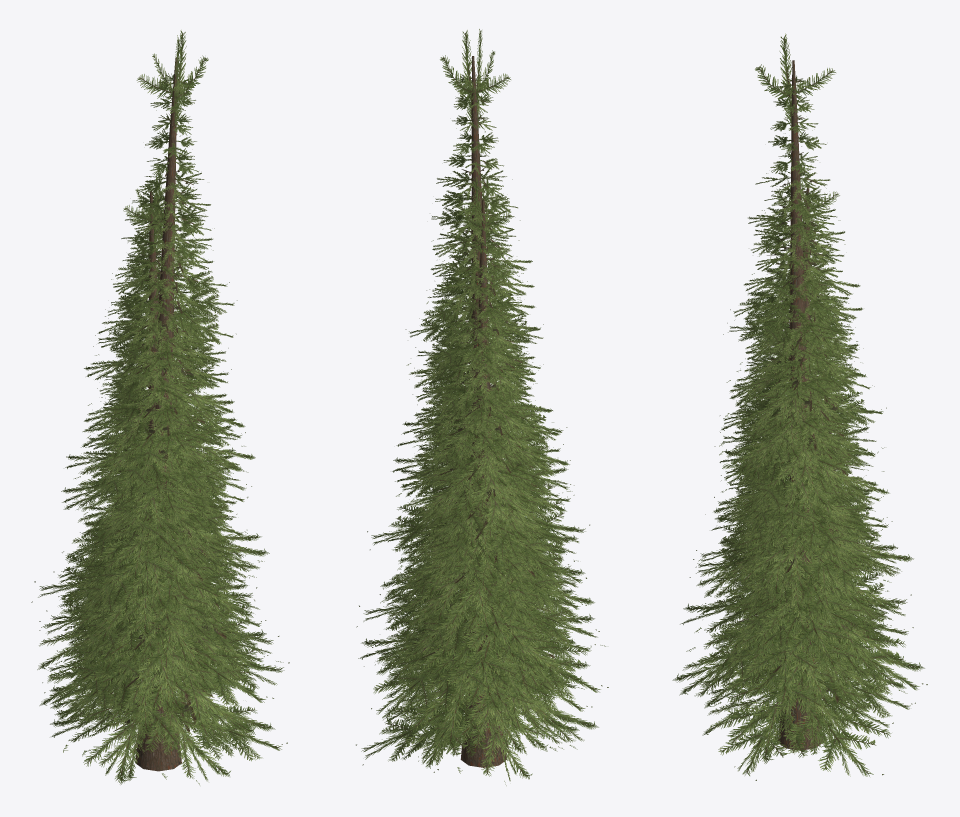
Rendered from conifers.glb.
3 renders of one model, left to right at view 1: azimuth 30°, elevation 25°; view 2: azimuth 150°, elevation 25°; view 3: azimuth 270°, elevation 25°, orthographic. The views are drawn at different scales.
Visible parts, largest first — view 1: conifer_a, conifer_b, conifer_c; view 2: conifer_a, conifer_b, conifer_c; view 3: conifer_a, conifer_b, conifer_c.
Boxes of the visible parts, box(x1,y1,x2,y2) form: conifer_a: box(31, 171, 289, 748); conifer_b: box(58, 30, 264, 771); conifer_c: box(42, 317, 287, 784); conifer_a: box(356, 176, 608, 749); conifer_b: box(383, 29, 586, 767); conifer_c: box(356, 317, 598, 785); conifer_a: box(672, 174, 927, 734); conifer_b: box(696, 33, 901, 749); conifer_c: box(698, 323, 915, 780).
Bounding box in the file's own units: 4.9 × 13.99 × 4.95.
Materials: 2 (2 with a texture image).
